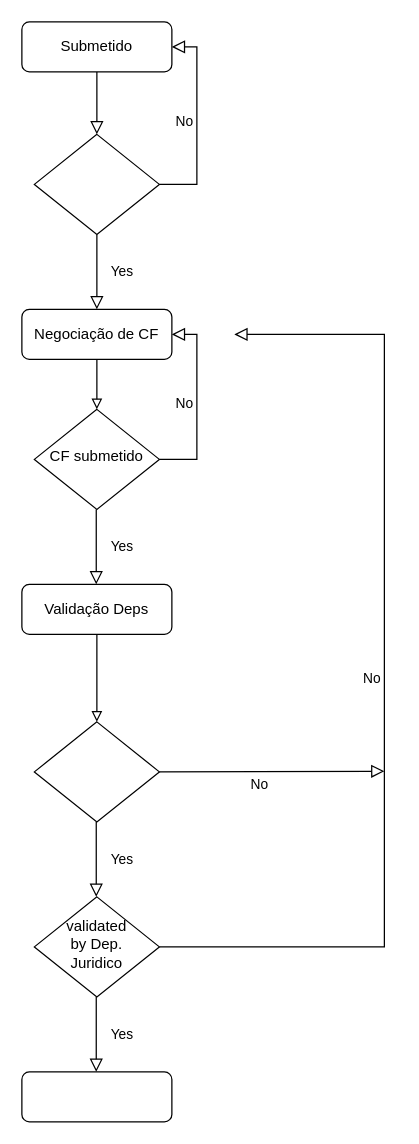
Some shapes in this 419 by 1144 pixel diagram are drawn without their labels. Here are the shapes that lost their labels. From the top down, the centre of each, then its label:
At pixel 96 183: "Negociação de CF start?".
At pixel 96 771: "Validated by Dep. Financeiro".
At pixel 96 1096: "Submissão ao CA".
